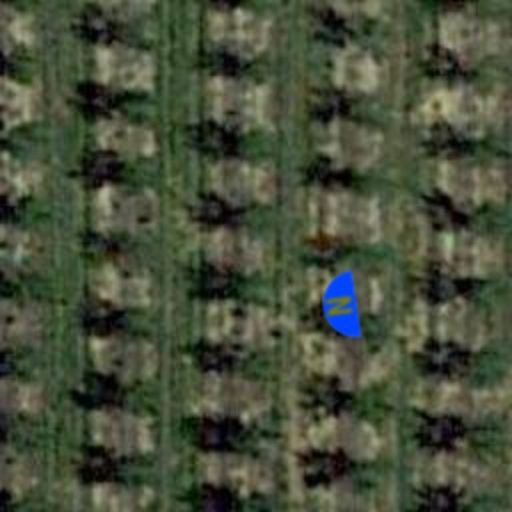semicircle: (300, 266, 380, 346)
